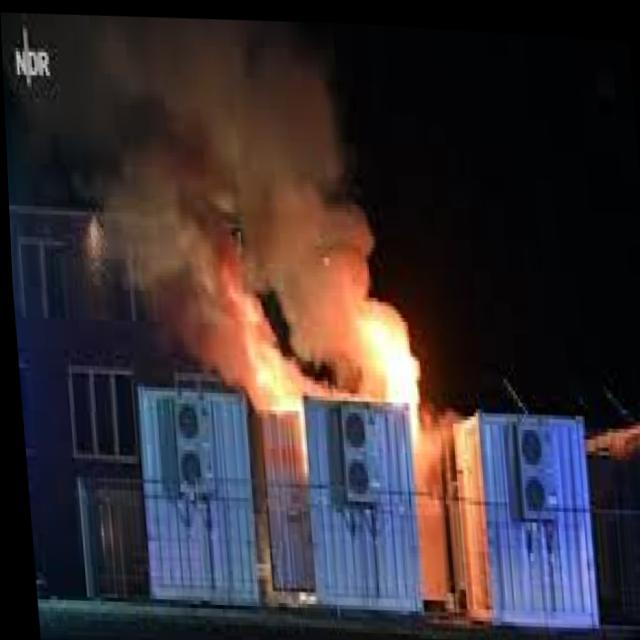Fire: (166, 206, 421, 539)
